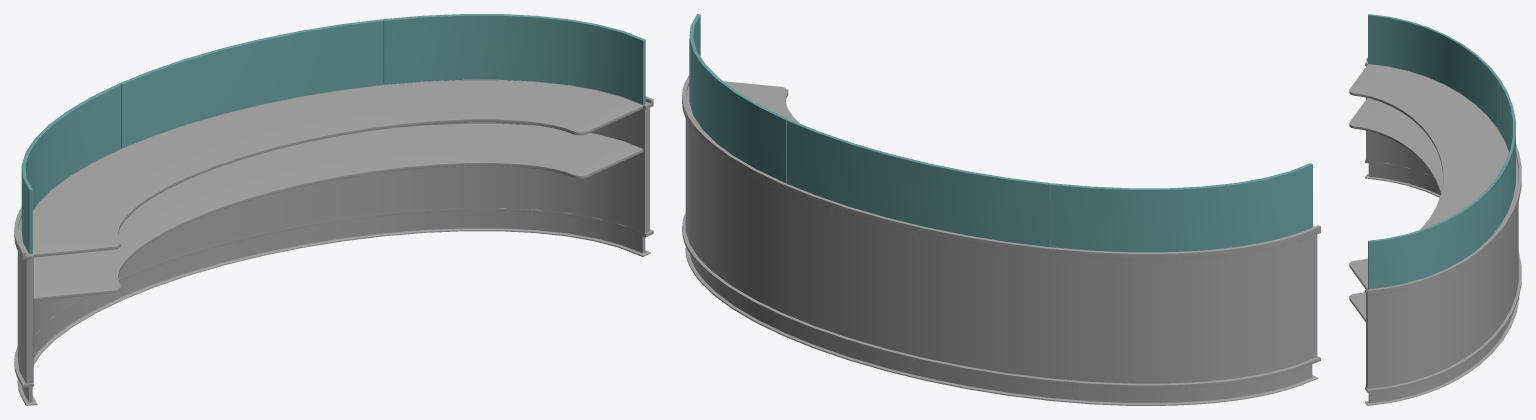
Rendered from reception_desk.fbx.
The picture shows the model from 3 angles, left to right: view 1: azimuth 30°, elevation 25°; view 2: azimuth 150°, elevation 25°; view 3: azimuth 270°, elevation 25°; orthographic projection. The views are drawn at different scales.
Visible parts, largest first — view 1: reception_desk; view 2: reception_desk; view 3: reception_desk.
Boxes of the visible parts, box(x1,y1,x2,y2) form: reception_desk: box(14, 14, 653, 405); reception_desk: box(682, 14, 1320, 405); reception_desk: box(1349, 14, 1521, 405).
Size of the model in its own units: 379 by 123 by 118.
